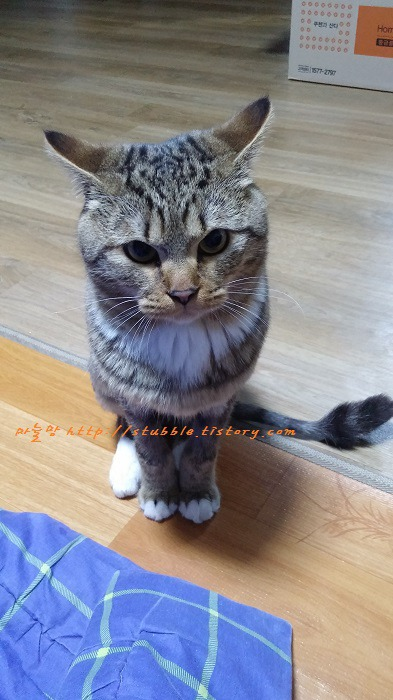cat: (33, 92, 292, 531)
cat-face: (35, 93, 281, 335)
